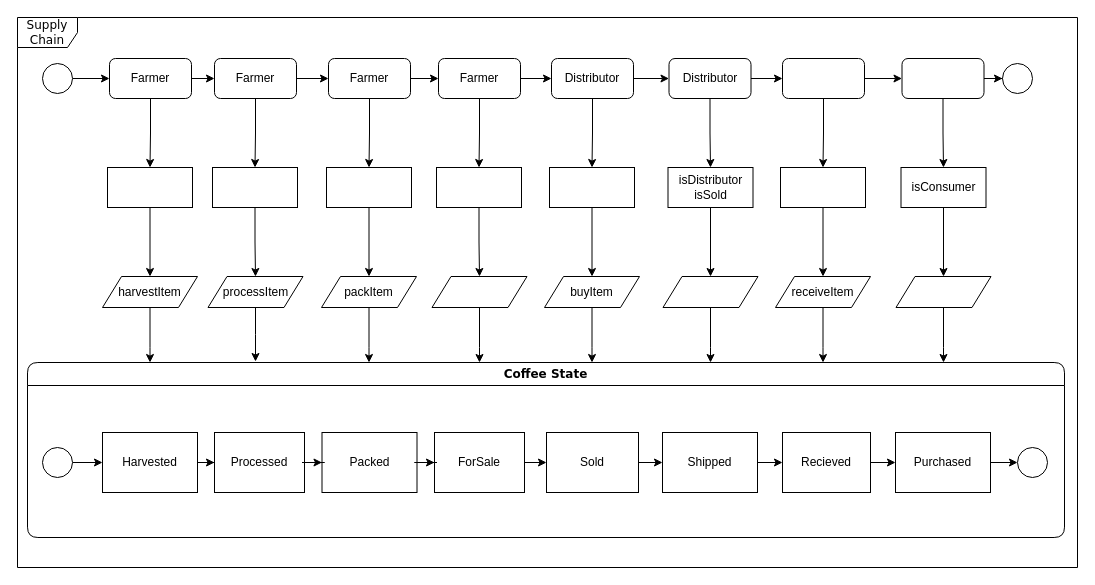
Some shapes in this 1095 by 585 pixel diagram are drawn without their labels. The centre of each missing label's shape, as x and y in pixels:
"Consumer" goes at point 942,78.
"isDistributor isForSale" goes at point 591,187.
"isFarmer" goes at point 149,187.
"isFarmer isHarvested" goes at point 255,187.
"isFarmer isPacked" goes at point 479,187.
"isFarmer isProcessed" goes at point 369,187.
"isRetailer isShipped" goes at point 823,187.
"purchaseItem" goes at point 943,292.
"Retailer" goes at point 823,78.
"sellItem" goes at point 479,292.
"shipItem" goes at point 710,292.
